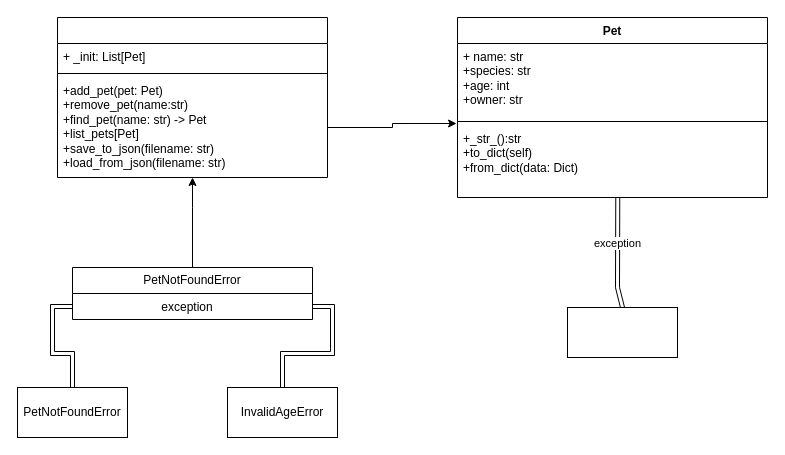
Some shapes in this 785 by 455 pixel diagram are drawn without their labels. Here are the shapes that lost their labels. From the top down, the box of each, then its label:
(56, 16, 328, 178): PetManager
(566, 306, 678, 358): DuplicatePetError
